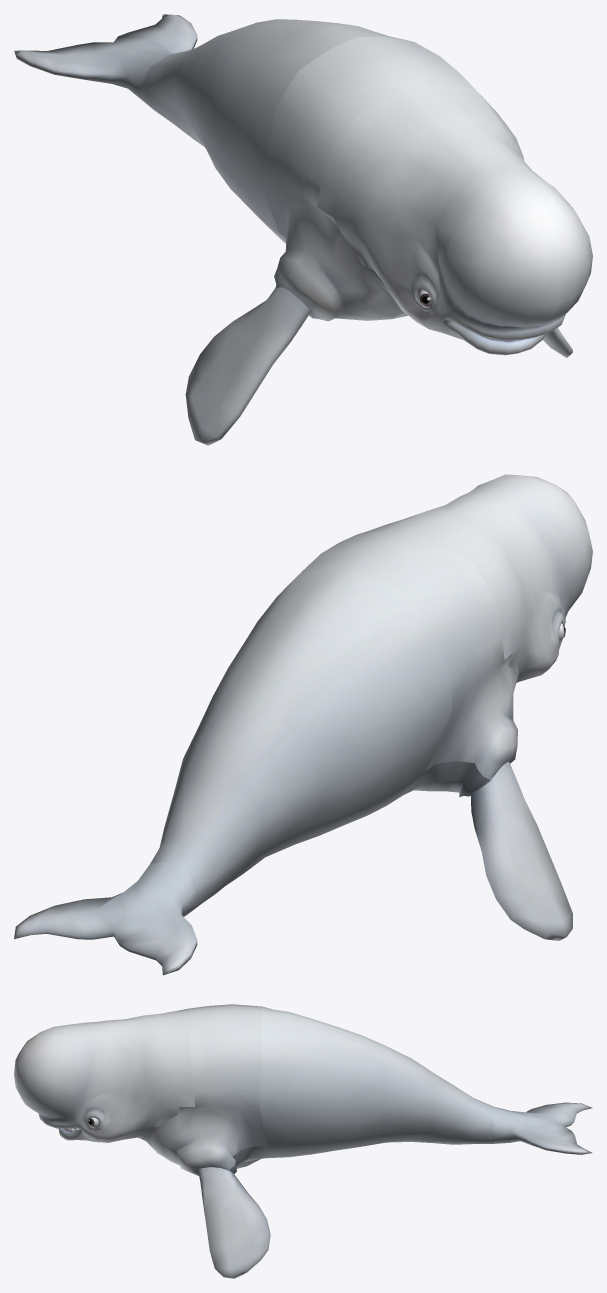
Rendered from Bailey.fbx.
3 renders of one model, top to bottom at view 1: azimuth 30°, elevation 25°; view 2: azimuth 150°, elevation 25°; view 3: azimuth 270°, elevation 25°, orthographic. The views are drawn at different scales.
Parts seen in each view (by area): view 1: bailey_lod0; view 2: bailey_lod0; view 3: bailey_lod0.
Part boxes in pixels (left/top/right/bottom): bailey_lod0: left=14, top=14, right=592, bottom=445; bailey_lod0: left=14, top=474, right=592, bottom=975; bailey_lod0: left=14, top=1004, right=592, bottom=1278.
Size of the model in its own units: 101 by 89.21 by 220.
